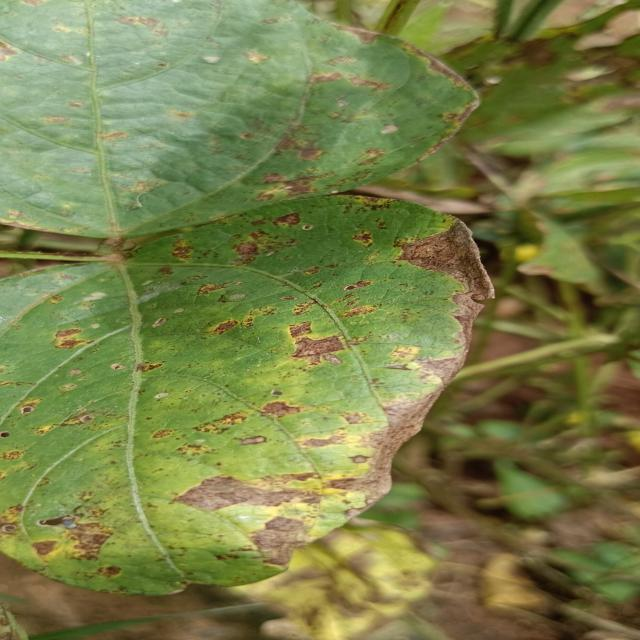Black gram_leaf spot: (0, 179, 512, 605), (8, 0, 476, 244)
